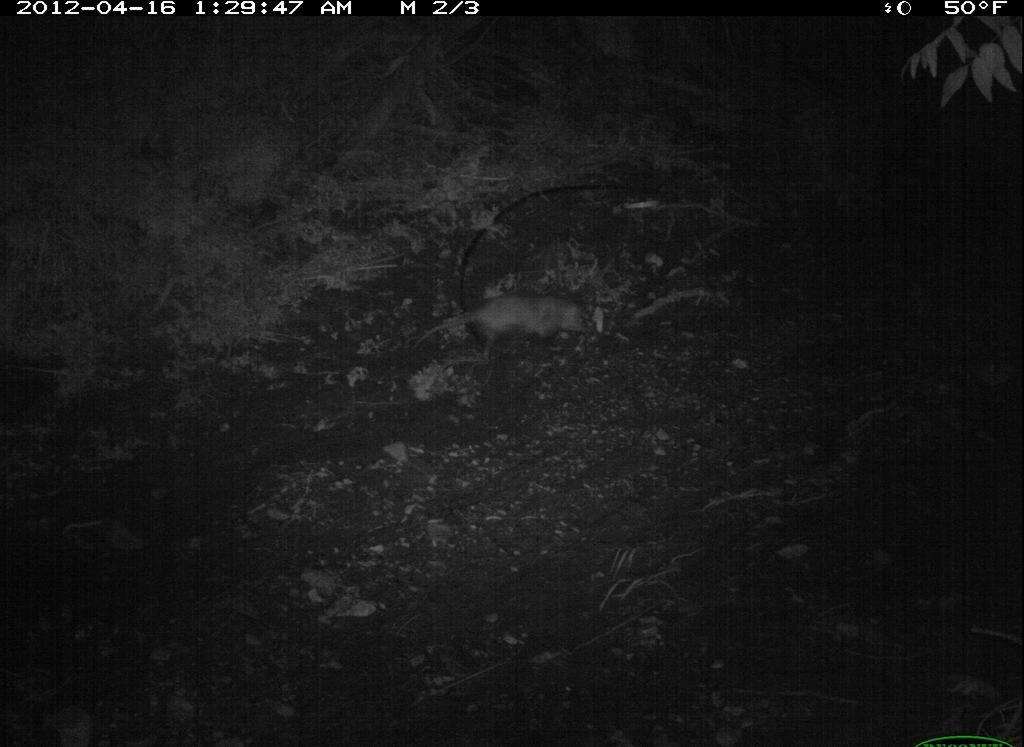opossum: (395, 281, 620, 373)
